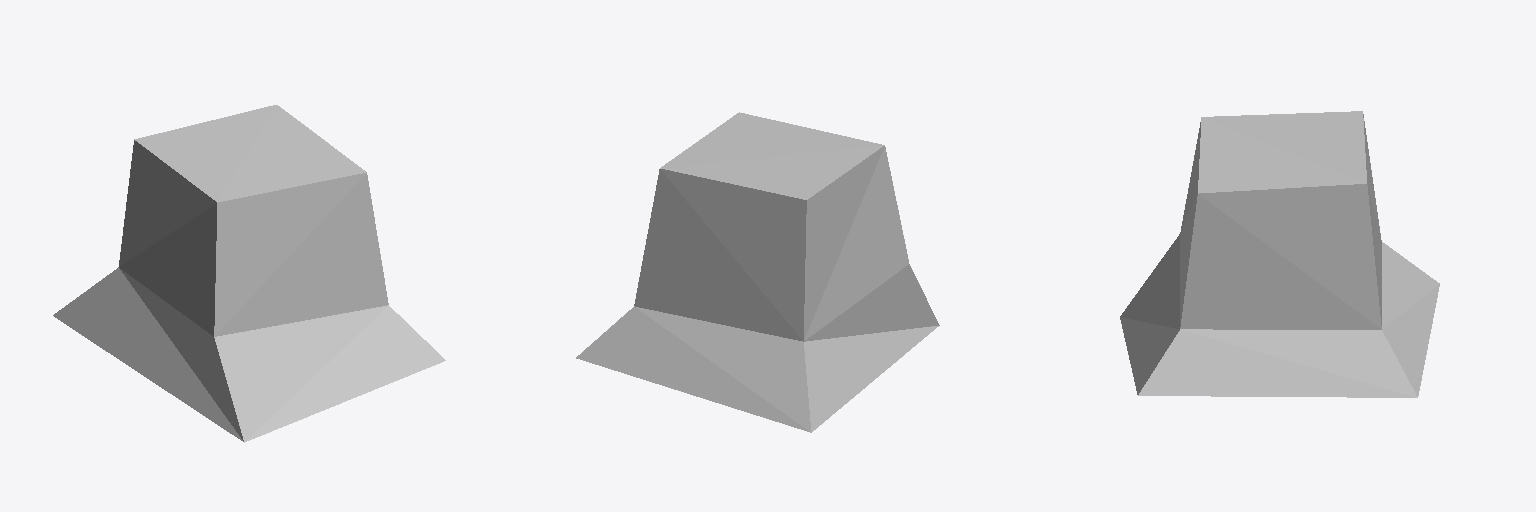
File: Hat_FancyMan_Collision.obj
3 views of the same model, side by side, from view 1: azimuth 30°, elevation 25°; view 2: azimuth 150°, elevation 25°; view 3: azimuth 270°, elevation 25° (orthographic).
Parts seen in each view (by area): view 1: Cube_Cube.001; view 2: Cube_Cube.001; view 3: Cube_Cube.001.
Part boxes in pixels (x1,y1,x2,y2): Cube_Cube.001: (53,105,445,442); Cube_Cube.001: (576,112,939,432); Cube_Cube.001: (1120,111,1439,397).
Bounding box in the file's own units: 5.68 × 4.64 × 6.38.